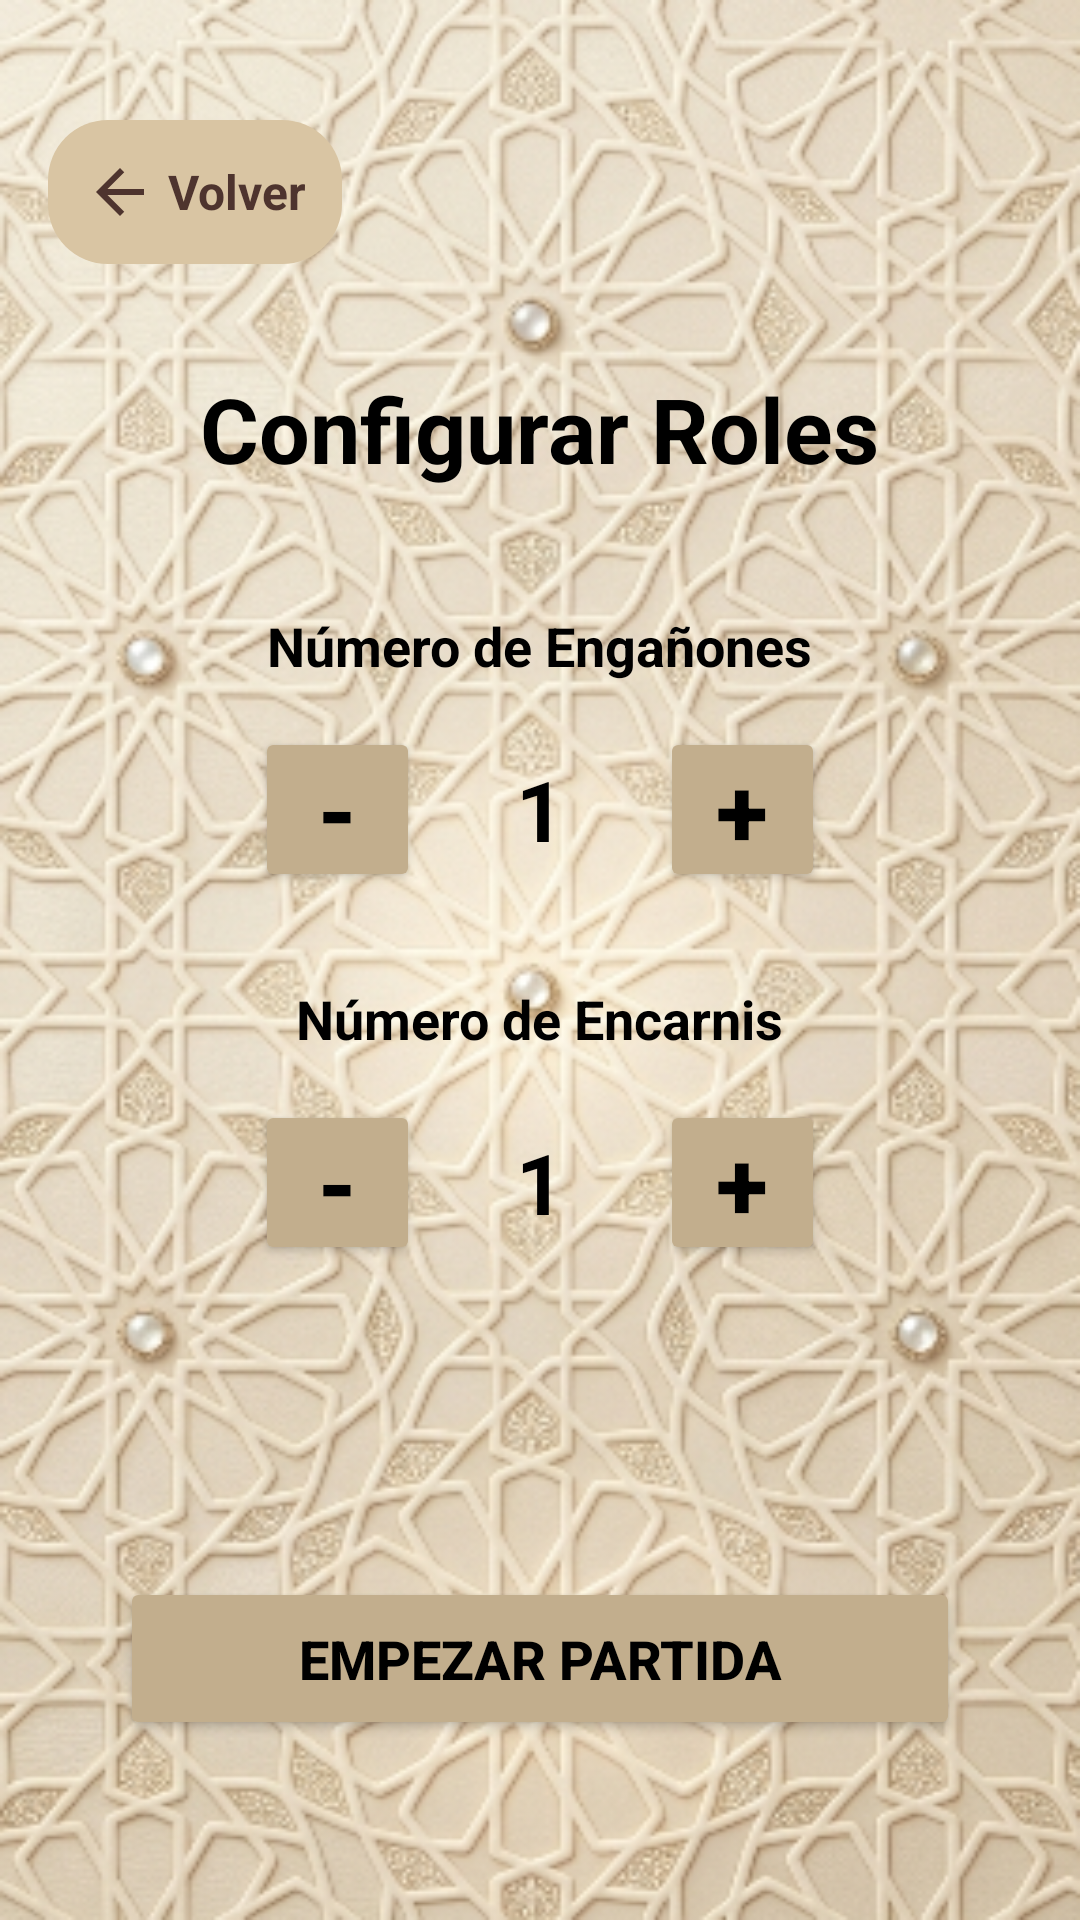

Named icons in this screenshot (1080px×1920px) and their bounding boxes, (x1, y1, x2, y2):
back arrow: (96, 168, 144, 216)
